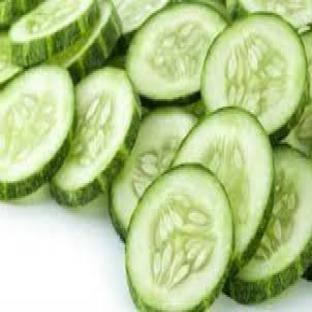Cucumber: (174, 109, 273, 274), (127, 165, 233, 311), (202, 14, 308, 140), (227, 146, 311, 302), (51, 68, 140, 207), (110, 109, 197, 239), (127, 2, 226, 104), (0, 66, 74, 199), (286, 30, 311, 156), (0, 32, 22, 85), (183, 100, 206, 117), (108, 55, 126, 69)
